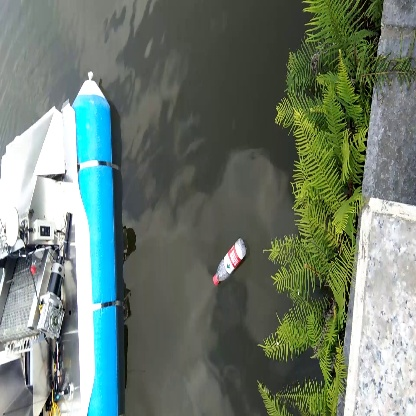bottle: (211, 237, 248, 288)
